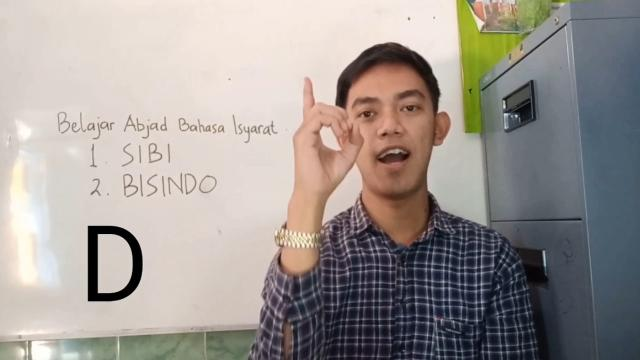D: (288, 74, 364, 198)
